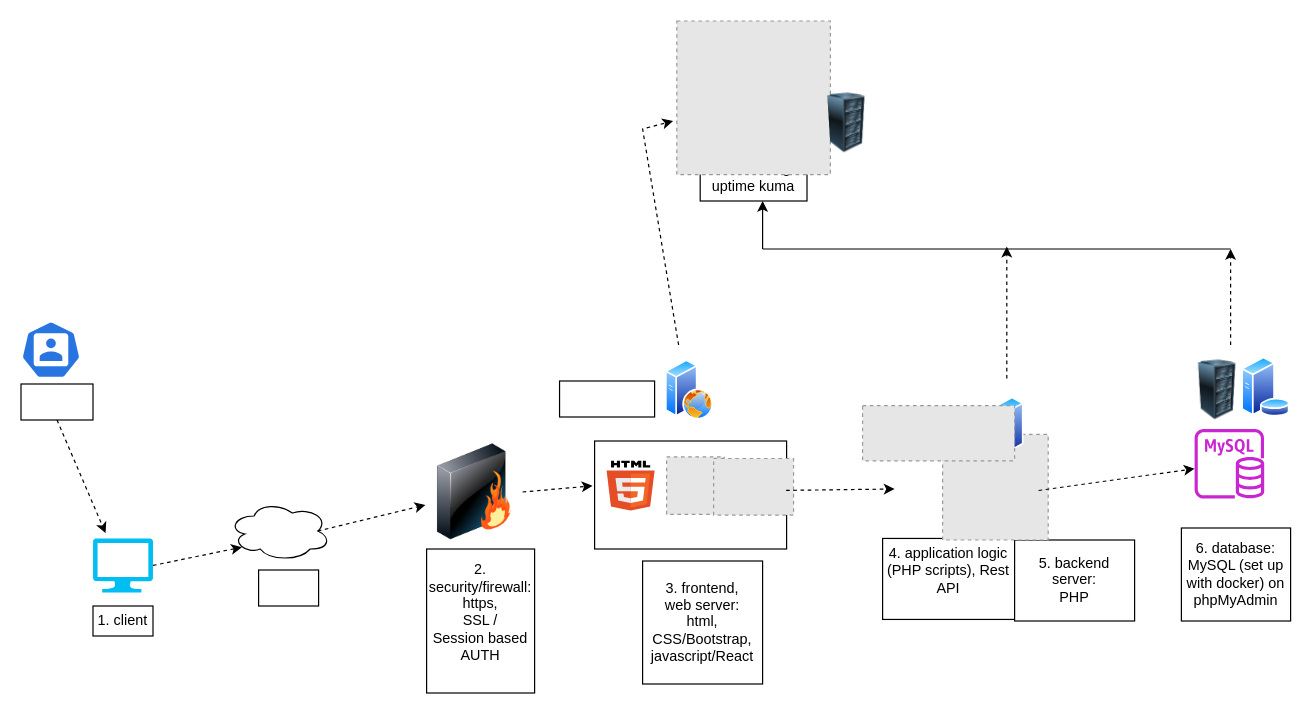
Some shapes in this 1312 by 714 pixel diagram are drawn without their labels. Grey dashed boxes stand in for pictures. Here are the shapes that lost their labels. From the top down, the box of each, then its label:
(20, 383, 93, 420): user
(558, 380, 655, 417): frontend web server
(227, 500, 331, 561): Cloud
(257, 569, 319, 606): internet
